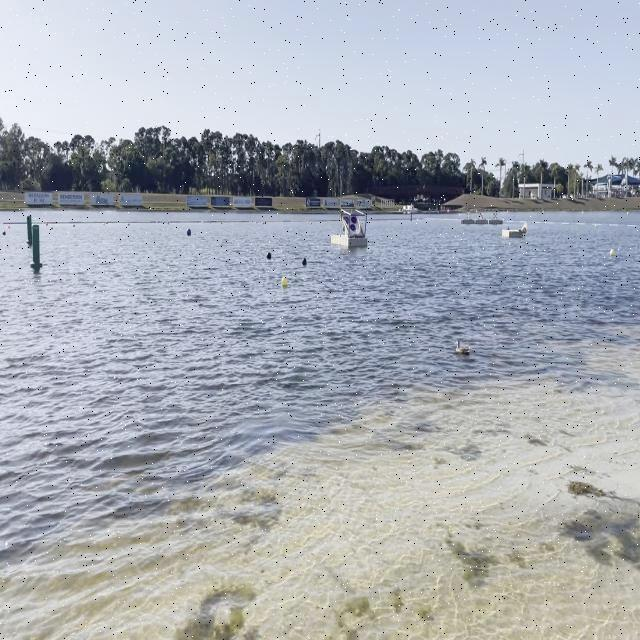buoy: (282, 276, 288, 289), (610, 246, 615, 258), (301, 256, 307, 266), (186, 228, 192, 238), (266, 252, 272, 261)
